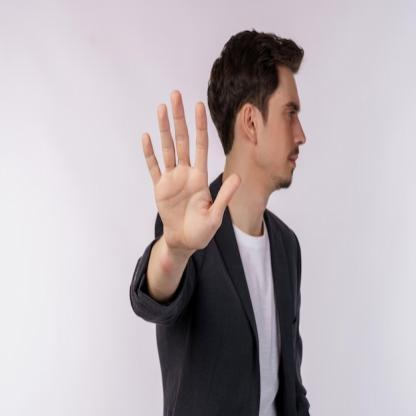stop: (138, 86, 244, 251)
